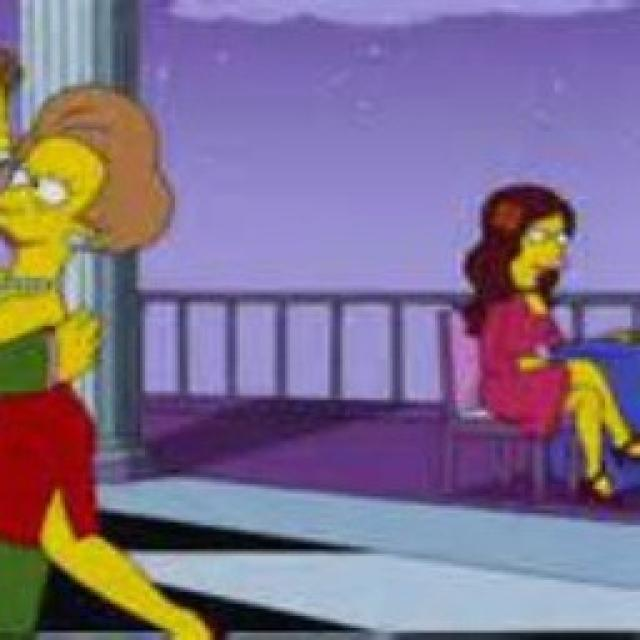Edna Krappel: (1, 80, 179, 298)
